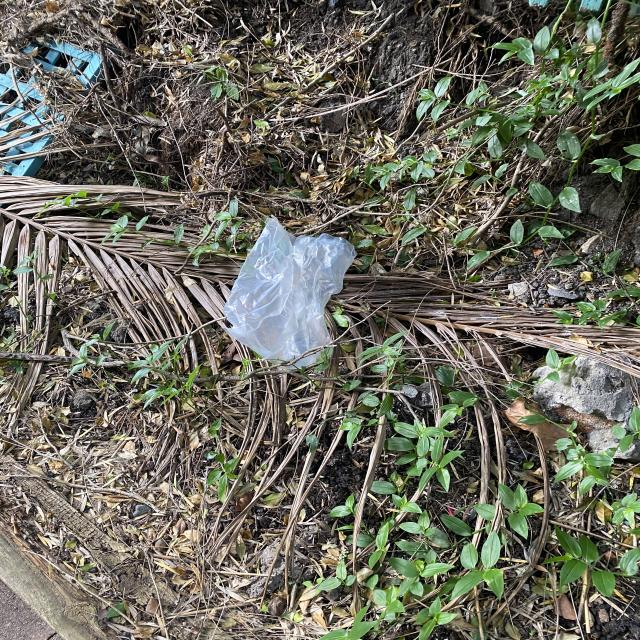bag: (223, 218, 357, 370)
